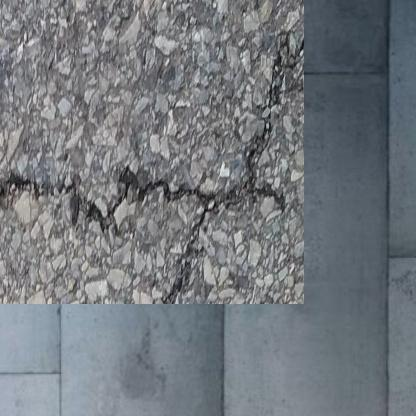Cracks: (145, 27, 281, 281), (0, 157, 144, 213)
